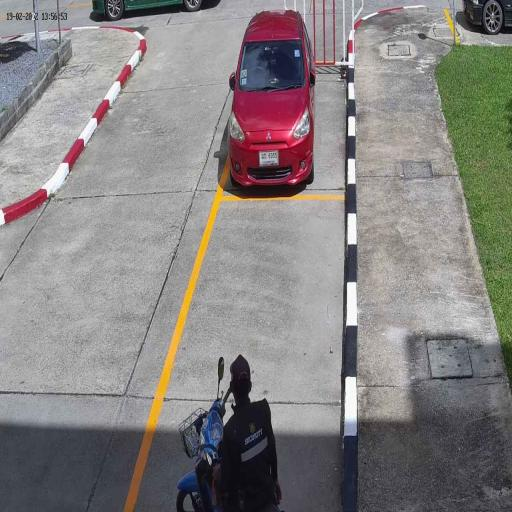car: (226, 10, 317, 194)
motorcycle: (172, 380, 224, 512)
